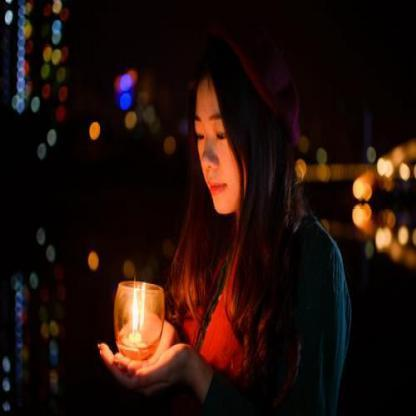fire: (131, 274, 140, 329), (140, 282, 146, 326)
